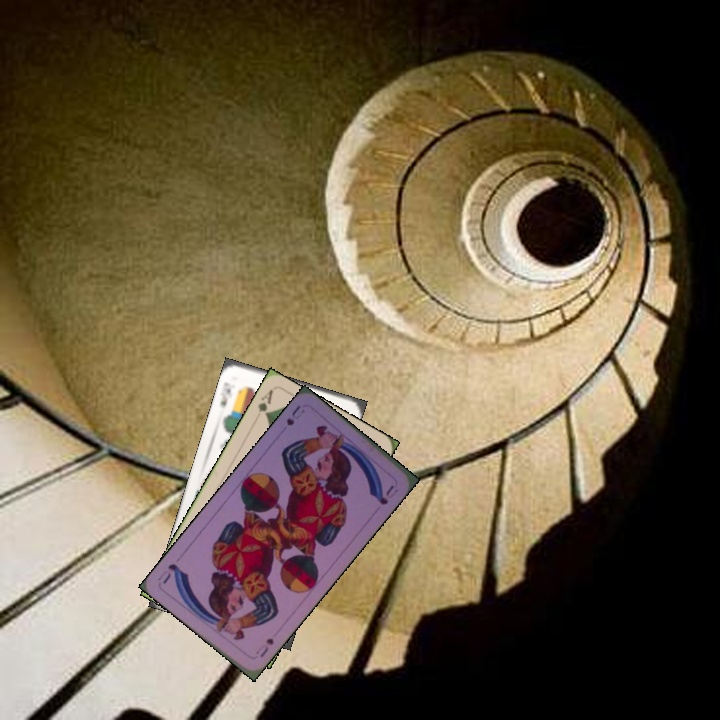EK: (216, 378, 233, 411)
GA: (254, 386, 275, 420)
SU: (282, 401, 307, 429), (252, 634, 276, 660)
